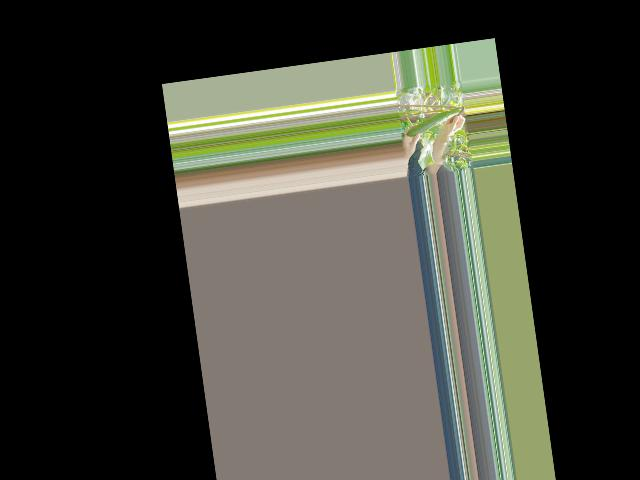cucumber: (403, 109, 461, 137)
